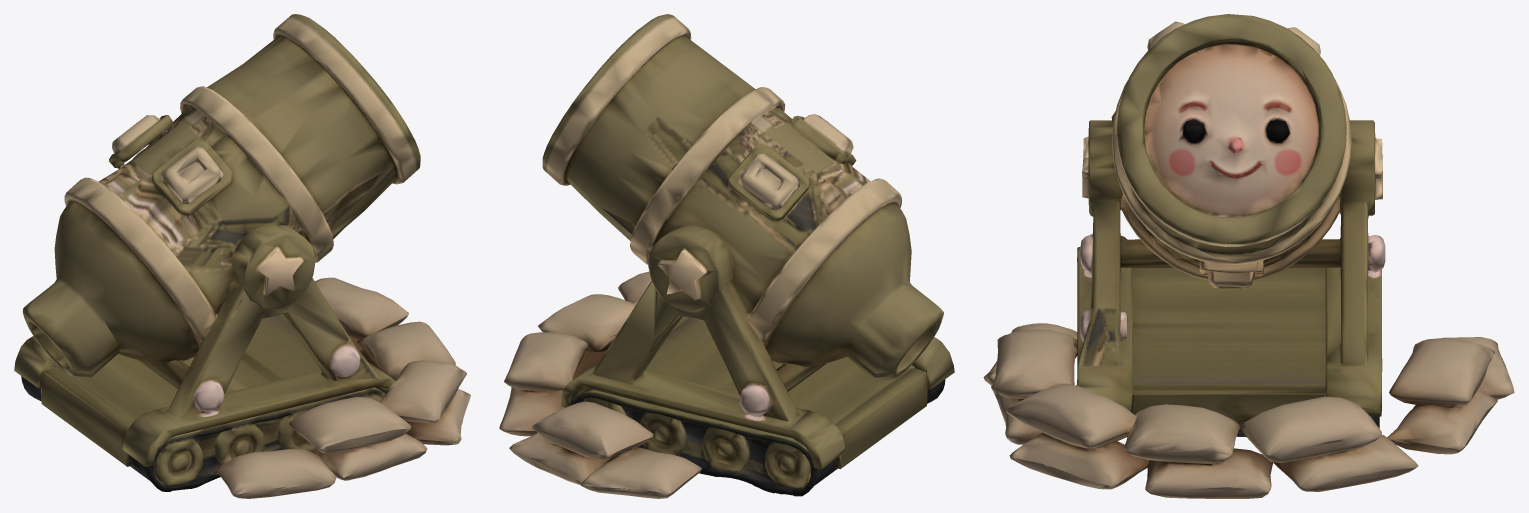
3 renders of one model, left to right at view 1: azimuth 30°, elevation 25°; view 2: azimuth 150°, elevation 25°; view 3: azimuth 270°, elevation 25°, orthographic. The views are drawn at different scales.
Visible parts, largest first — view 1: repaired; view 2: repaired; view 3: repaired.
Part boxes in pixels (x1=…): repaired: x1=14, y1=14, x2=470, y2=498; repaired: x1=499, y1=14, x2=954, y2=498; repaired: x1=983, y1=14, x2=1514, y2=498.
Bounding box in the file's own units: 0.9997 × 0.8895 × 0.9959.
Materials: 1 (1 with a texture image).
